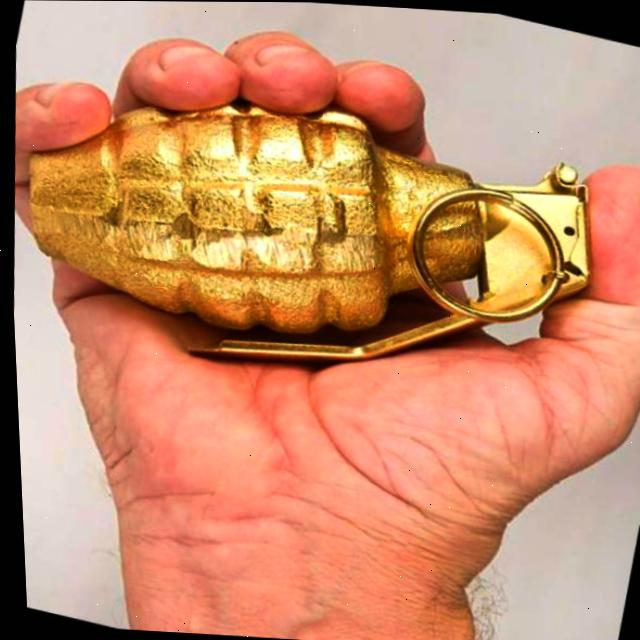grenade: (1, 28, 640, 454)
